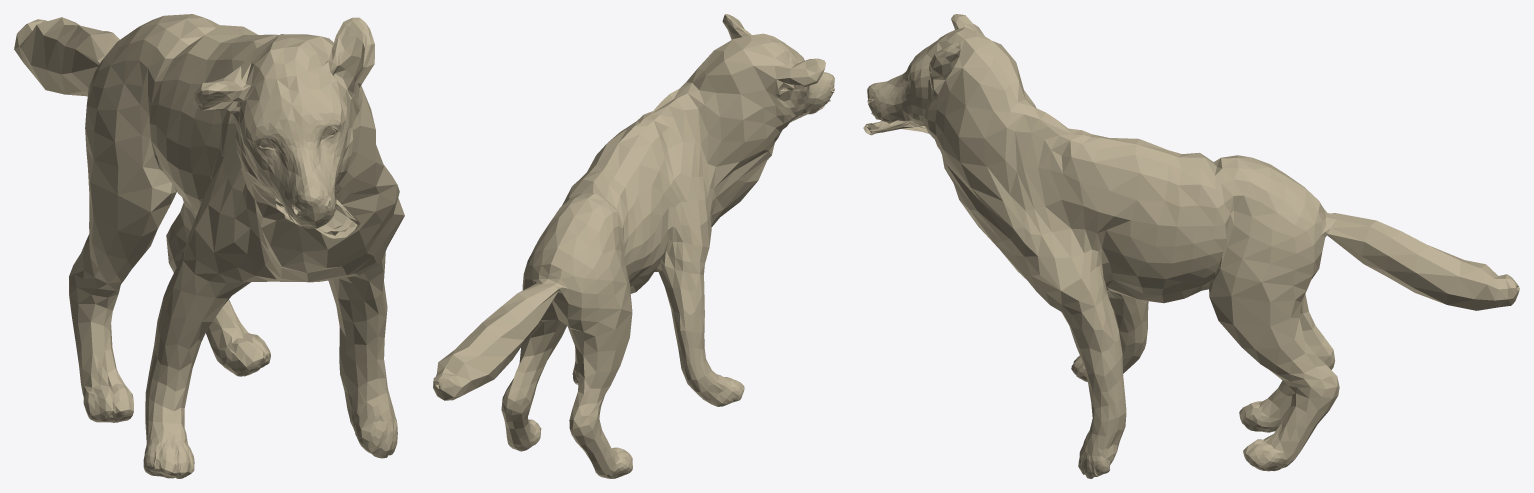
The picture shows the model from 3 angles, left to right: view 1: azimuth 30°, elevation 25°; view 2: azimuth 150°, elevation 25°; view 3: azimuth 270°, elevation 25°; orthographic projection. The views are drawn at different scales.
Parts seen in each view (by area): view 1: world; view 2: world; view 3: world.
Boxes of the visible parts, x1,y1,x2,y2 form: world: [14, 14, 404, 478]; world: [433, 14, 834, 478]; world: [863, 14, 1519, 478].
Size of the model in its own units: 0.481 by 0.8603 by 1.28.
